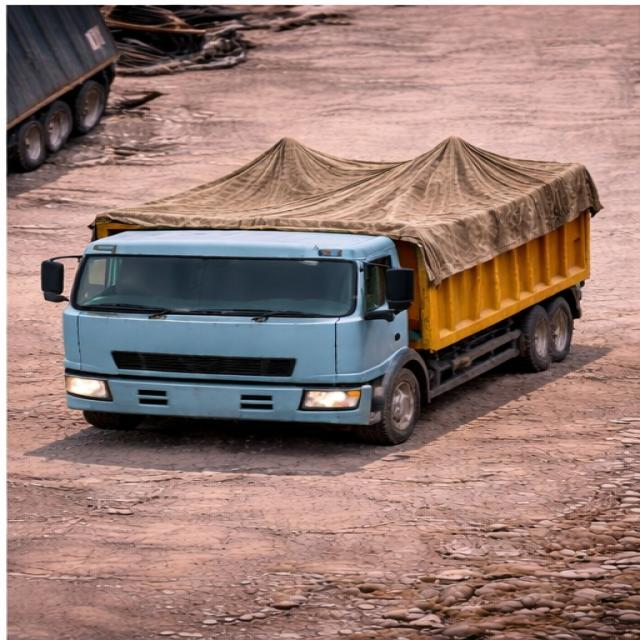Box: (107, 142, 586, 221)
Truck: (34, 128, 625, 432)
